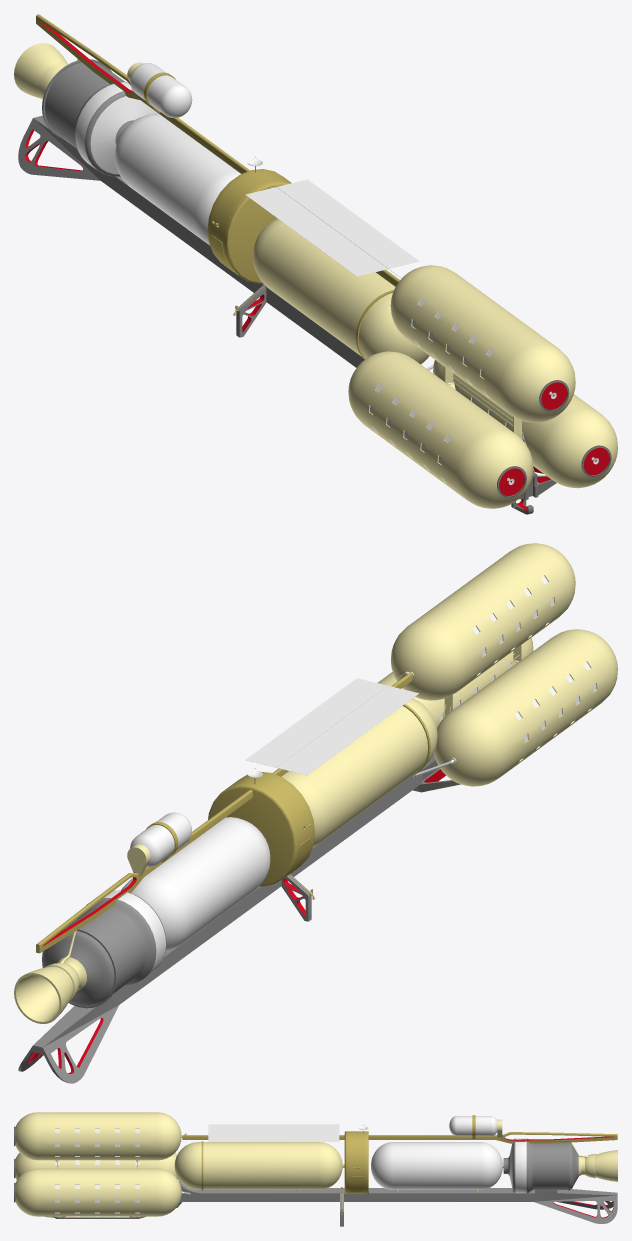
Rendered from LOD_Test_NclearPodShip.glb.
3 renders of one model, top to bottom at view 1: azimuth 30°, elevation 25°; view 2: azimuth 150°, elevation 25°; view 3: azimuth 270°, elevation 25°, orthographic. The views are drawn at different scales.
Parts seen in each view (by area): view 1: NuclearPodShip_LOD0; view 2: NuclearPodShip_LOD0; view 3: NuclearPodShip_LOD0.
Part boxes in pixels (x1=…): NuclearPodShip_LOD0: x1=14, y1=14, x2=617, y2=514; NuclearPodShip_LOD0: x1=14, y1=543, x2=617, y2=1083; NuclearPodShip_LOD0: x1=14, y1=1112, x2=617, y2=1226.
Size of what is drawn, in the model's own units: 17.5 by 18.68 by 101.
